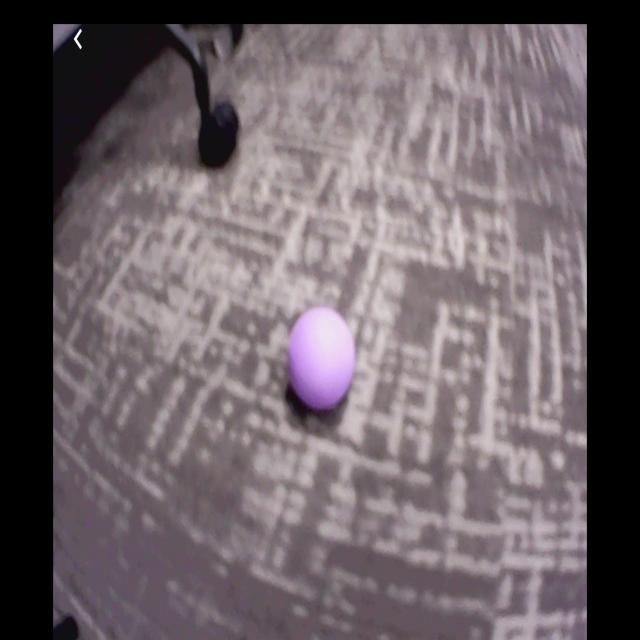ball: (290, 308, 354, 406)
